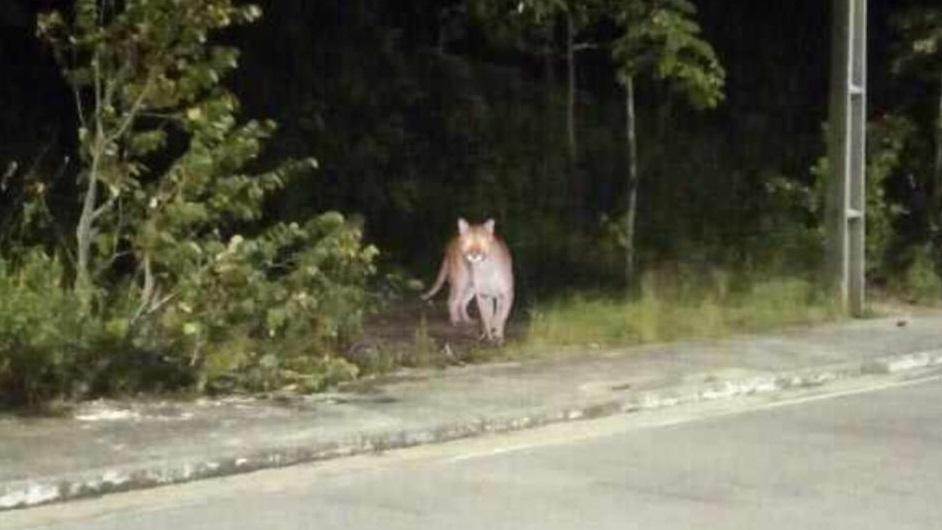OncaParda: (418, 213, 524, 354)
